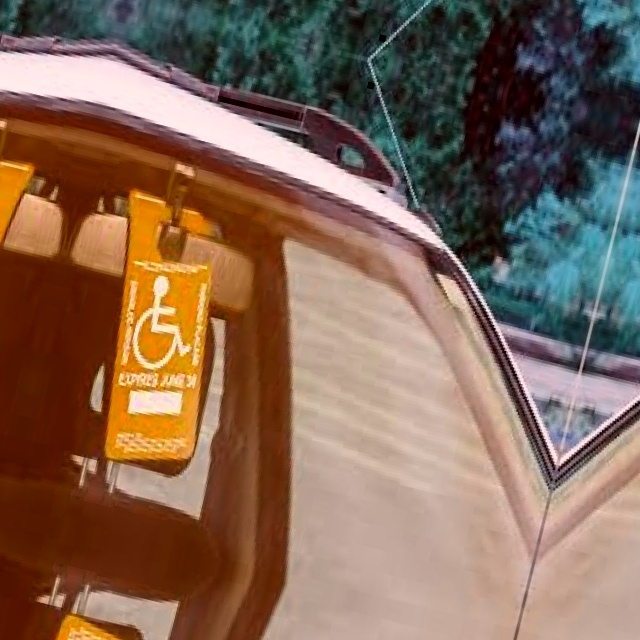ISA: (126, 265, 210, 384)
